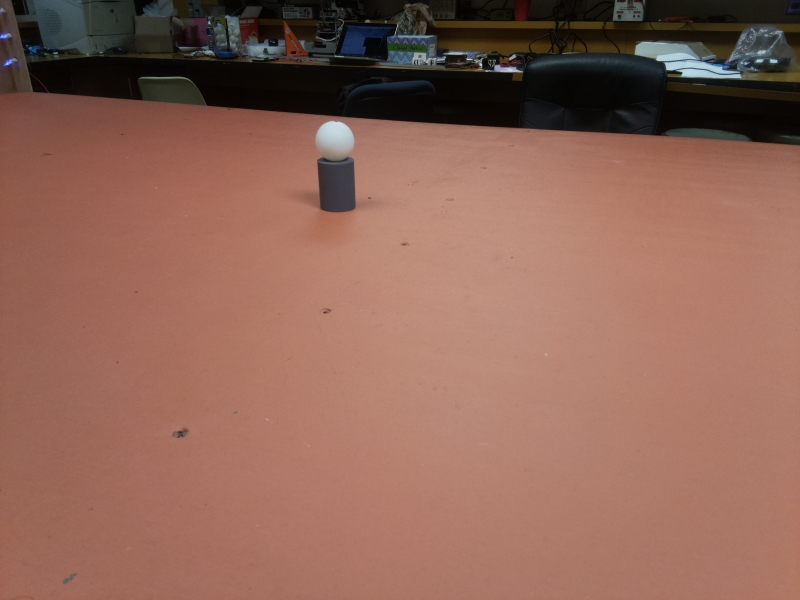obstacle: (313, 119, 360, 212)
